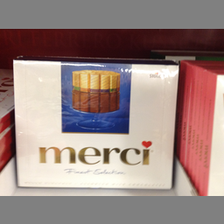chocolate: (13, 57, 180, 189)
